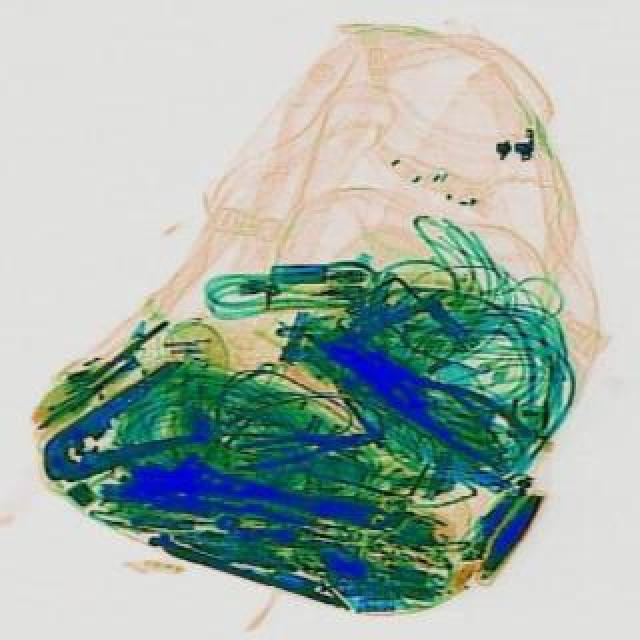scissors: (122, 438, 398, 550)
wrench: (304, 316, 536, 476), (22, 354, 222, 506), (226, 420, 374, 472)
